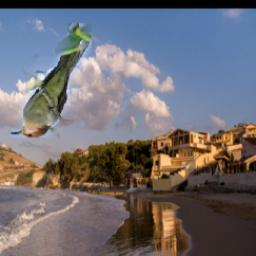Cuckoo: (9, 23, 91, 138)
